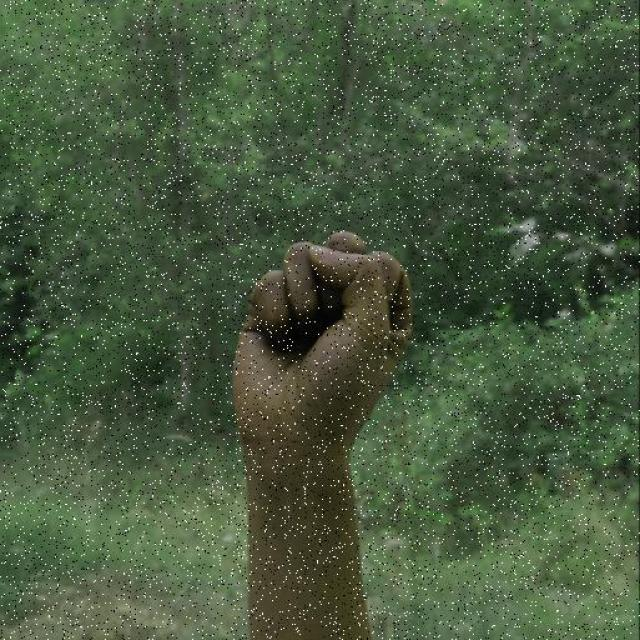S: (229, 228, 418, 457)
